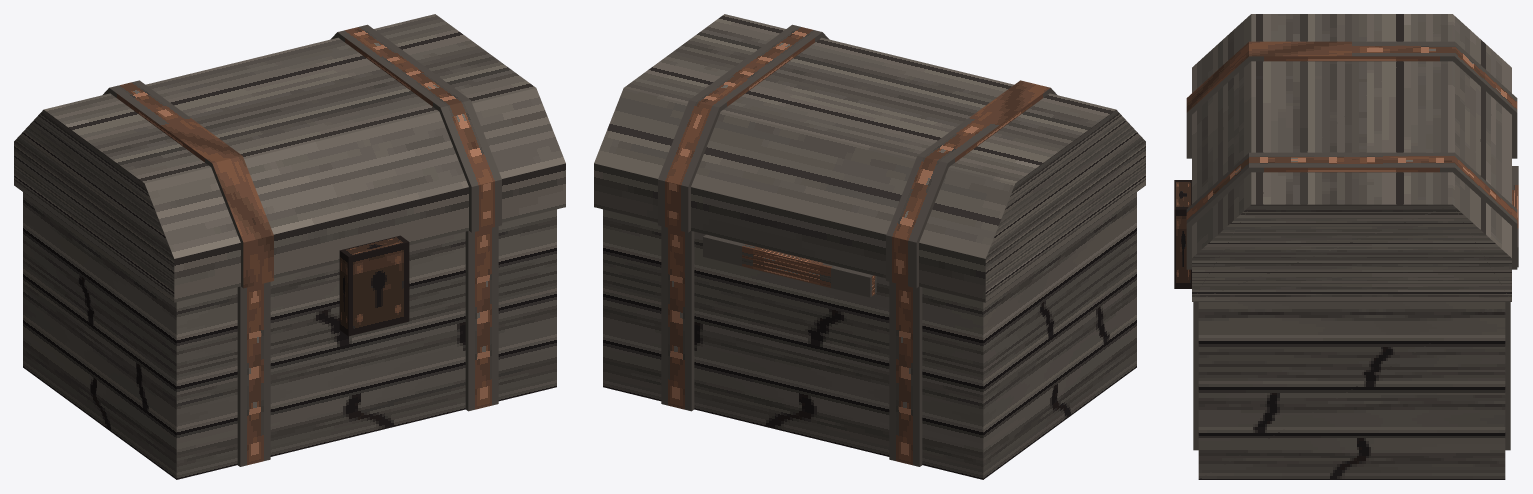
Rendered from chest_beggar.glb.
3 renders of one model, left to right at view 1: azimuth 30°, elevation 25°; view 2: azimuth 150°, elevation 25°; view 3: azimuth 270°, elevation 25°, orthographic.
Visible parts, largest first — view 1: lid, base, lock; view 2: lid, base; view 3: lid, base, lock.
Part boxes in pixels (x1,y1,x2,y2): lid: [14, 14, 565, 302]; base: [23, 192, 556, 479]; lock: [339, 235, 409, 336]; lid: [594, 14, 1145, 302]; base: [603, 192, 1136, 479]; lid: [1186, 14, 1517, 301]; base: [1193, 166, 1518, 479]; lock: [1174, 180, 1191, 288].
Bounding box in the file's own units: 1.03 × 0.712 × 0.785.
Materials: 1 (1 with a texture image).
